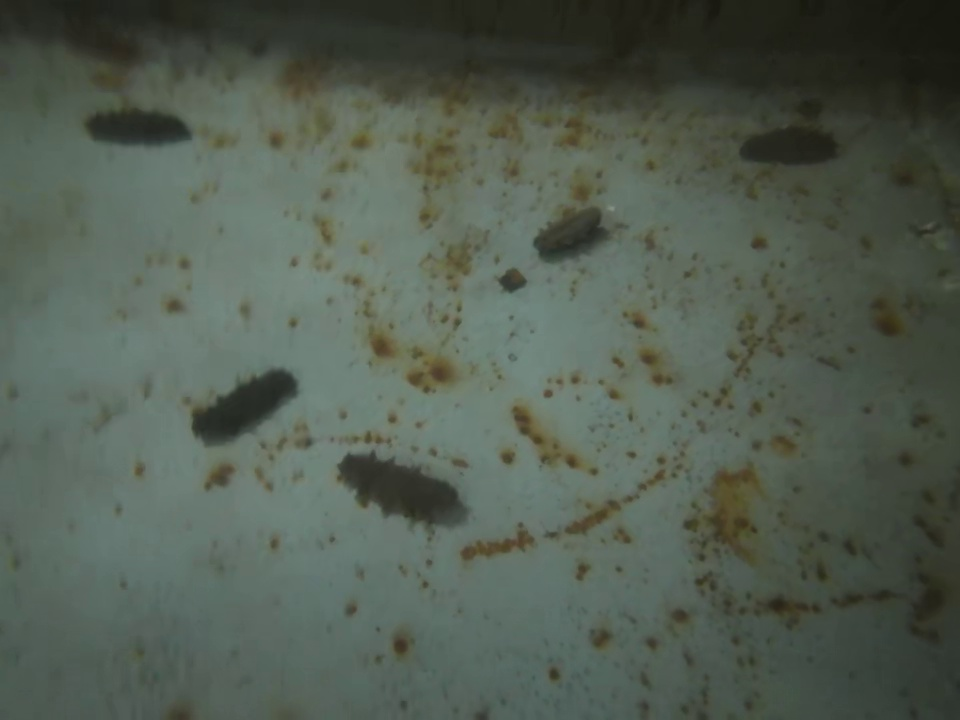seacucumber: (334, 443, 464, 521), (189, 360, 302, 446), (731, 123, 851, 168), (82, 107, 203, 150), (525, 200, 608, 262)
